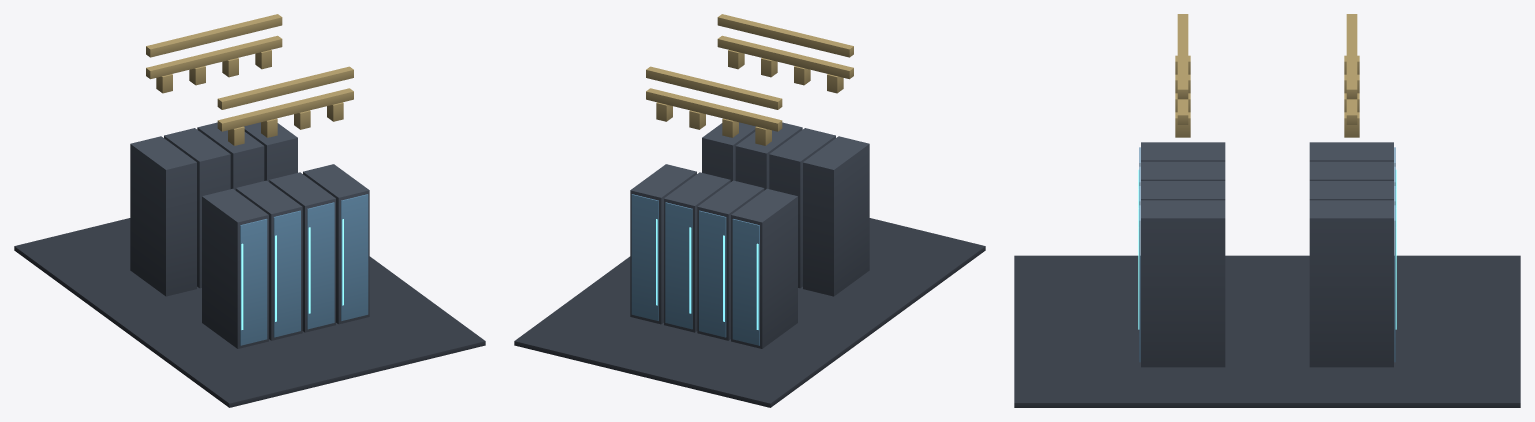
File: dgx-b200-hd.glb
The picture shows the model from 3 angles, left to right: view 1: azimuth 30°, elevation 25°; view 2: azimuth 150°, elevation 25°; view 3: azimuth 270°, elevation 25°; orthographic projection. The views are drawn at different scales.
Visible parts, largest first — view 1: floor, rack-B1, rack-A1, rack-A3-door, rack-A1-door, rack-A4-door, rack-A2-door, rack-B2, rack-A3, rack-A2, rack-A4, rack-B3 (+5 smaller); view 2: floor, rack-A1, rack-B1, rack-B3-door, rack-B1-door, rack-B4-door, rack-B2-door, rack-A2, rack-B3, rack-B2, rack-B4, rack-A3 (+5 smaller); view 3: floor, rack-A4, rack-B4, rack-A1, rack-B1, rack-A2, rack-A3, rack-B2, rack-B3, busway-A2, busway-B2.
Part boxes in pixels (x1,y1,x2,y2): floor: [14, 218, 485, 407]; rack-B1: [130, 136, 196, 296]; rack-A1: [202, 188, 268, 348]; rack-A3-door: [307, 202, 334, 329]; rack-A1-door: [240, 219, 267, 345]; rack-A4-door: [341, 194, 368, 320]; rack-A2-door: [273, 210, 300, 337]; rack-B2: [164, 128, 230, 288]; rack-A3: [269, 172, 335, 332]; rack-A2: [235, 180, 302, 340]; rack-A4: [303, 164, 369, 324]; rack-B3: [197, 122, 264, 190]; floor: [514, 218, 985, 407]; rack-A1: [803, 136, 869, 296]; rack-B1: [731, 188, 797, 348]; rack-B3-door: [665, 202, 692, 329]; rack-B1-door: [732, 219, 759, 345]; rack-B4-door: [631, 194, 658, 320]; rack-B2-door: [699, 210, 726, 337]; rack-A2: [769, 128, 835, 288]; rack-B3: [664, 172, 730, 332]; rack-B2: [697, 180, 764, 340]; rack-B4: [630, 164, 696, 324]; rack-A3: [735, 122, 802, 190]; floor: [1014, 255, 1520, 407]; rack-A4: [1141, 200, 1225, 367]; rack-B4: [1309, 200, 1393, 367]; rack-A1: [1141, 142, 1225, 161]; rack-B1: [1309, 142, 1393, 161]; rack-A2: [1141, 161, 1225, 180]; rack-A3: [1141, 181, 1225, 200]; rack-B2: [1309, 161, 1393, 180]; rack-B3: [1309, 181, 1393, 200]; busway-A2: [1177, 14, 1188, 99]; busway-B2: [1346, 14, 1357, 99].
Size of the model in its own units: 4.95 by 4.43 by 7.2.
